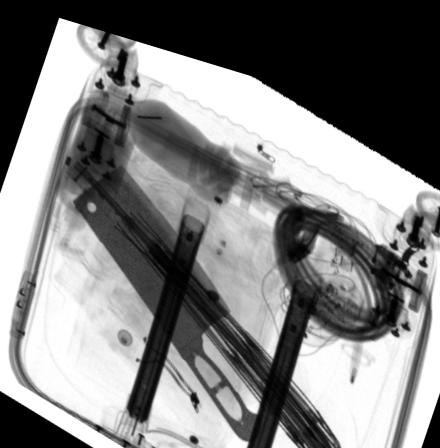Knife: (74, 157, 260, 426)
